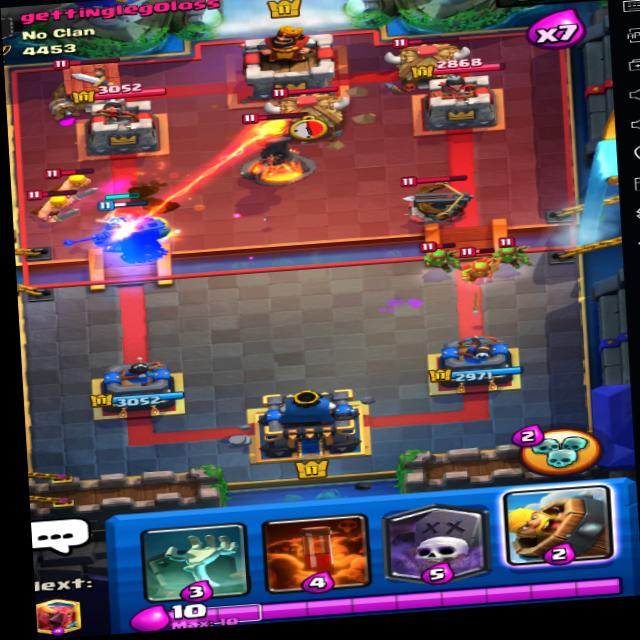barbarian: (50, 167, 107, 197), (35, 186, 85, 220)
barbarian-hut: (46, 51, 131, 121)
goblin-hut: (385, 28, 475, 91), (260, 82, 349, 135)
inferno-tower: (231, 106, 322, 185)
spear-goblin: (456, 251, 500, 277), (489, 237, 521, 264), (425, 238, 457, 263)
x-bow: (387, 162, 484, 226)
